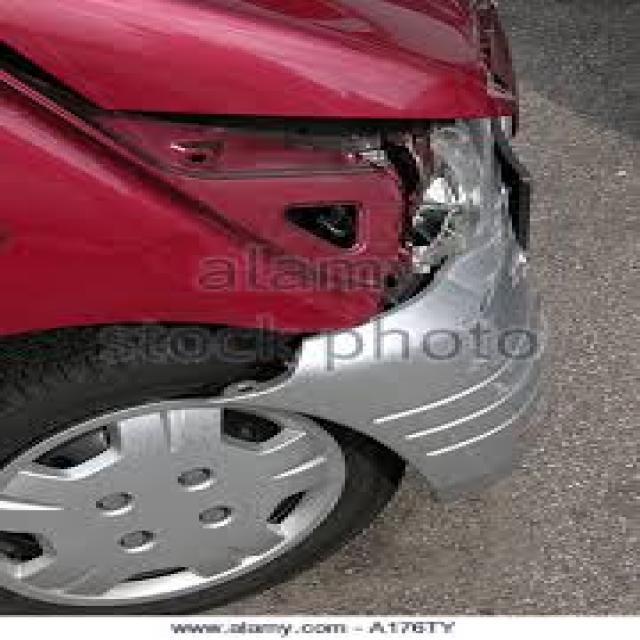minor: (97, 41, 531, 442)
